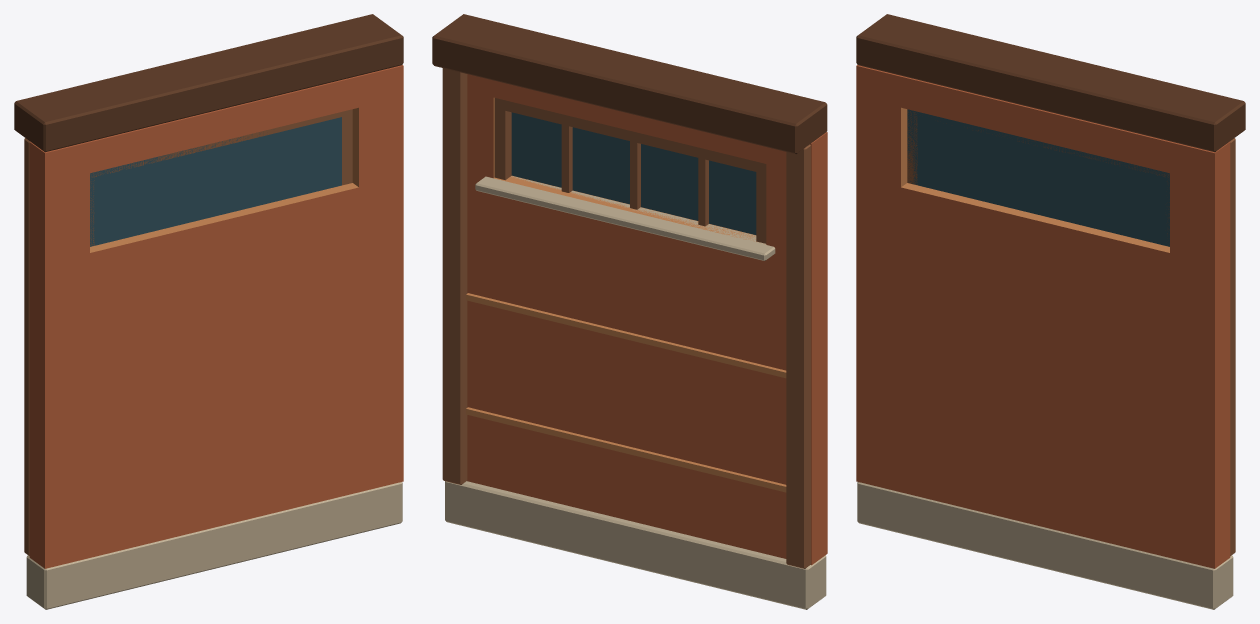
Rendered from hall_wall.glb.
3 renders of one model, left to right at view 1: azimuth 30°, elevation 25°; view 2: azimuth 150°, elevation 25°; view 3: azimuth 330°, elevation 25°, orthographic.
Visible parts, largest first — view 1: wall; view 2: wall; view 3: wall.
Part boxes in pixels (left/top/right/bottom): wall: left=14, top=14, right=403, bottom=609; wall: left=432, top=14, right=827, bottom=609; wall: left=856, top=14, right=1245, bottom=609.
Bounding box in the file's own units: 4.02 × 5.2 × 0.6.
